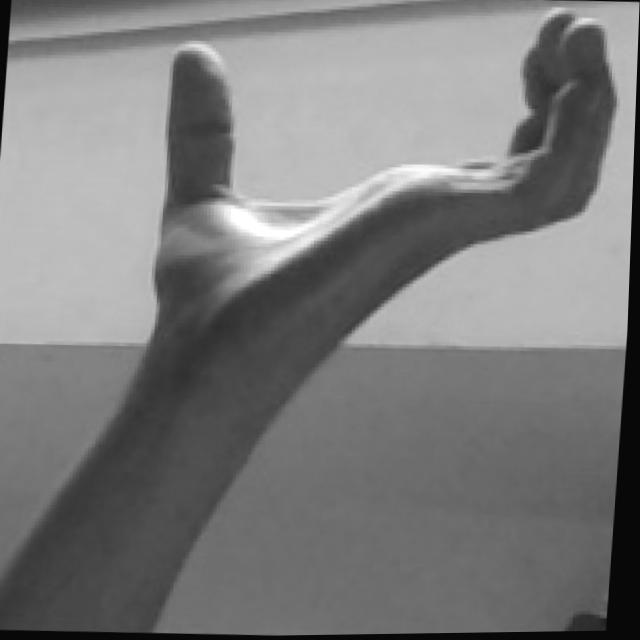space: (136, 0, 629, 361)
